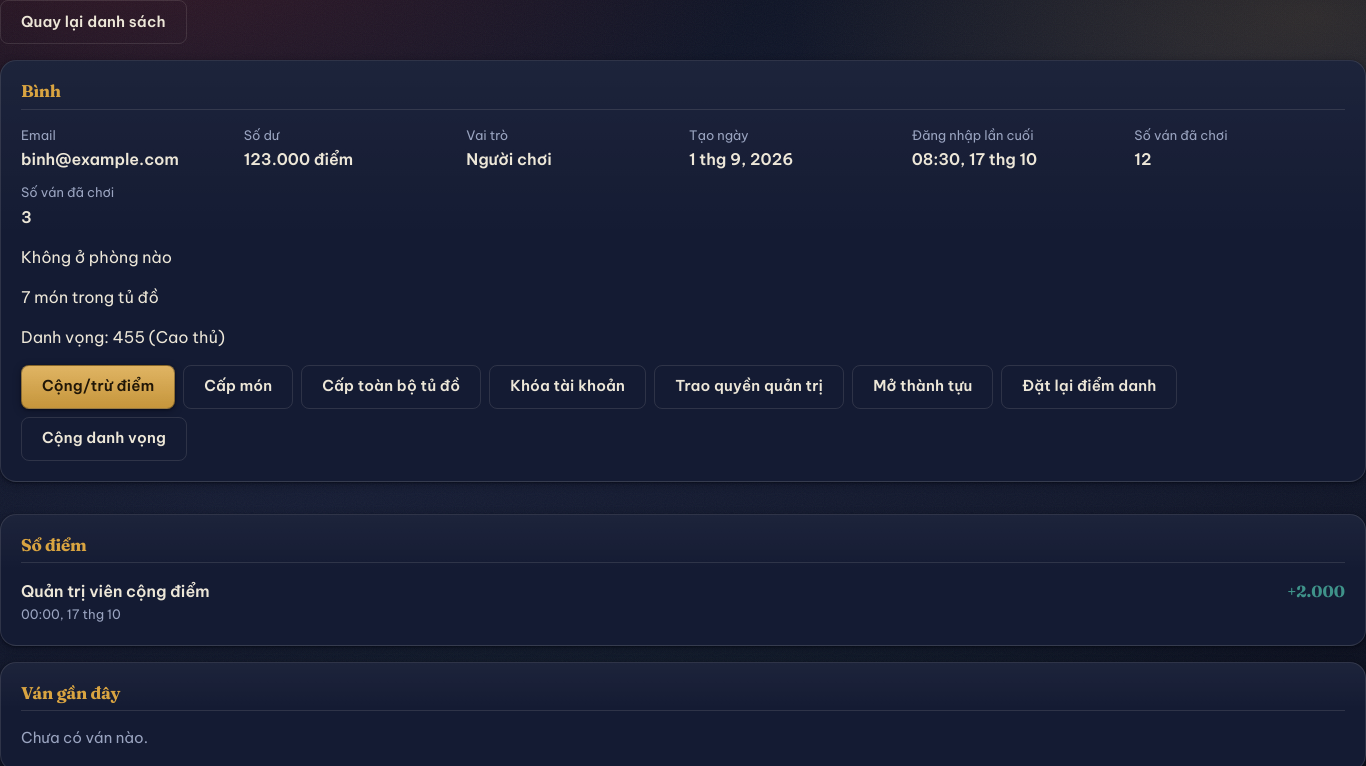
Test case: PlayerDetail › spells out what the reset takes back, then resets and reads the preview again
Expected: the text "binh@example.com" is shown, top-left (21, 149), bottom-right (179, 169)
Step 1. Click the button "Đặt lại điểm danh" → coordinates (1089, 386), box top-left (1001, 364), bottom-right (1177, 408)
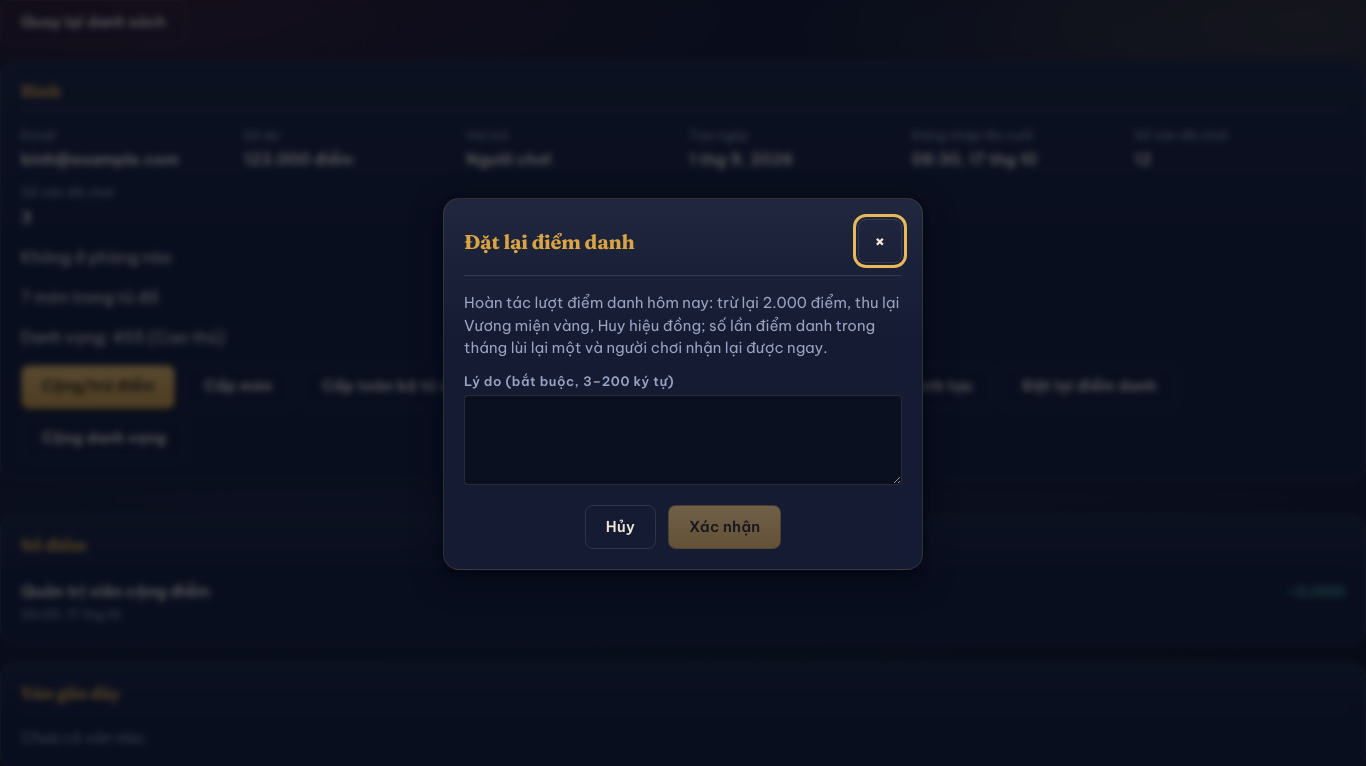
Step 2. Type "bấm nhầm" into the text box labelled "Lý do (bắt buộc, 3–200 ký tự)" → coordinates (683, 440), box top-left (464, 395), bottom-right (902, 485)
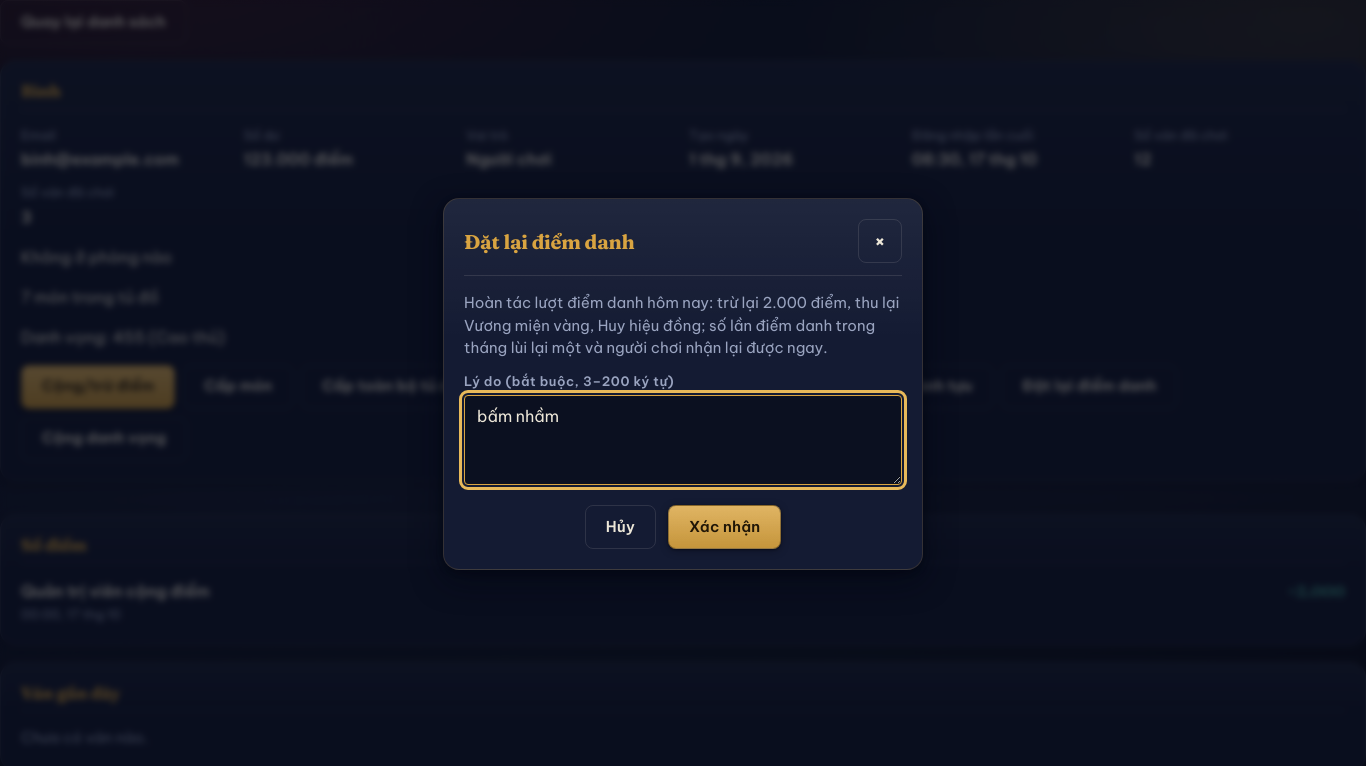
Step 3. Click the button "Xác nhận" → coordinates (725, 527), box top-left (668, 505), bottom-right (781, 549)
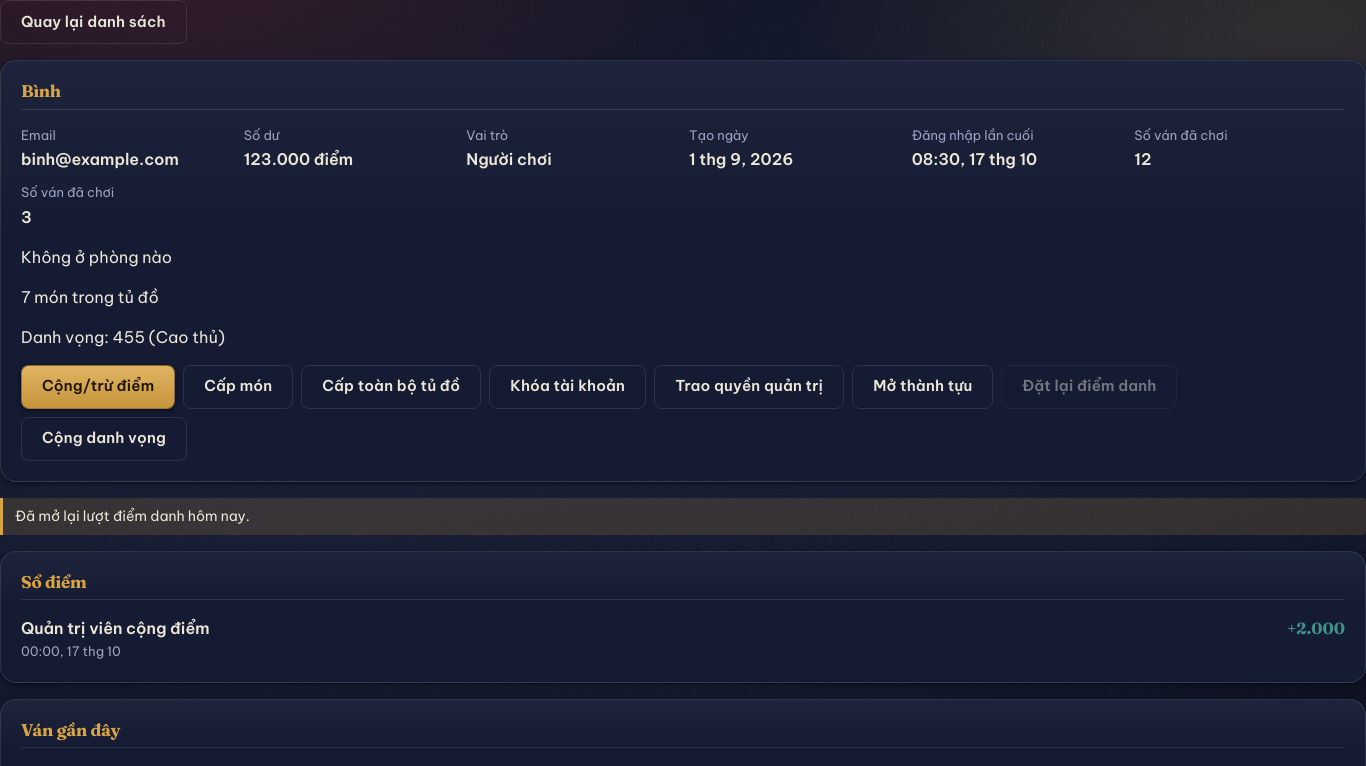
Expected: the text "Đã mở lại lượt điểm danh hôm nay." is shown, top-left (0, 498), bottom-right (1365, 534)
Expected: the button "Đặt lại điểm danh" is disabled, top-left (1001, 364), bottom-right (1177, 408)
